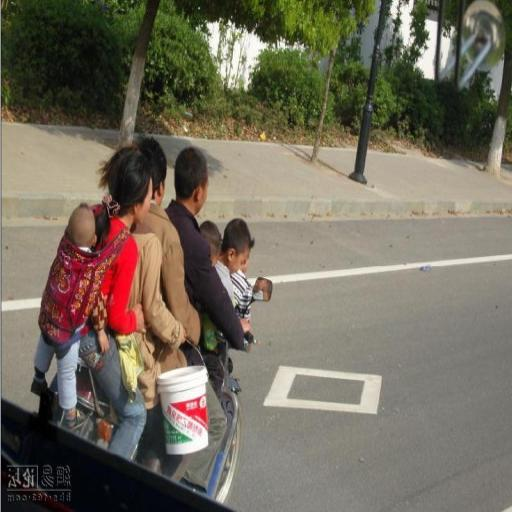overloading: (26, 129, 271, 497)
